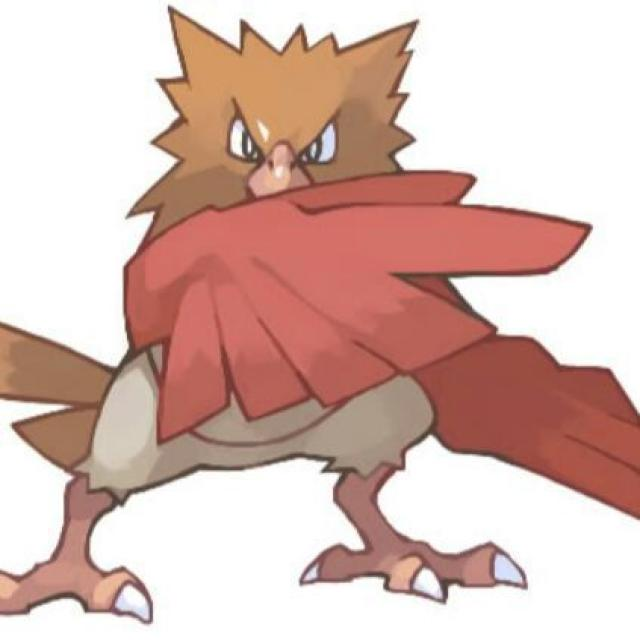Spearow: (43, 43, 570, 589)
